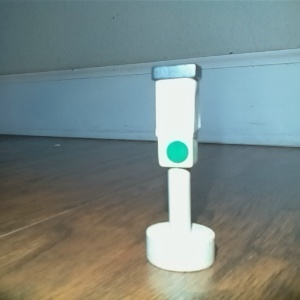traffic light green: (143, 60, 216, 274)
